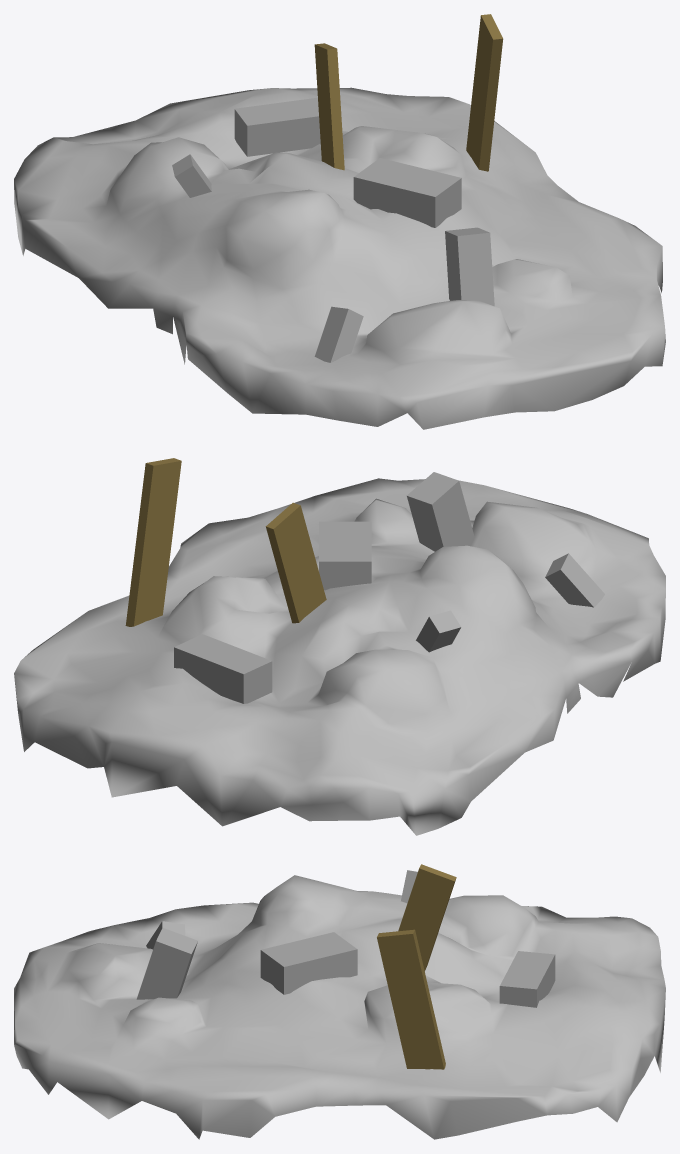
Rendered from PileOfDust_02.fbx.
3 views of the same model, one above another, from view 1: azimuth 30°, elevation 25°; view 2: azimuth 150°, elevation 25°; view 3: azimuth 270°, elevation 25° (orthographic). The views are drawn at different scales.
Parts seen in each view (by area): view 1: PileOfDust02_LOD01; view 2: PileOfDust02_LOD01; view 3: PileOfDust02_LOD01.
Boxes of the visible parts, box(x1,y1,x2,y2) form: PileOfDust02_LOD01: box(14, 14, 665, 429); PileOfDust02_LOD01: box(14, 458, 665, 835); PileOfDust02_LOD01: box(14, 864, 665, 1139).
Size of the model in its own units: 4.04 by 1.78 by 5.64.
